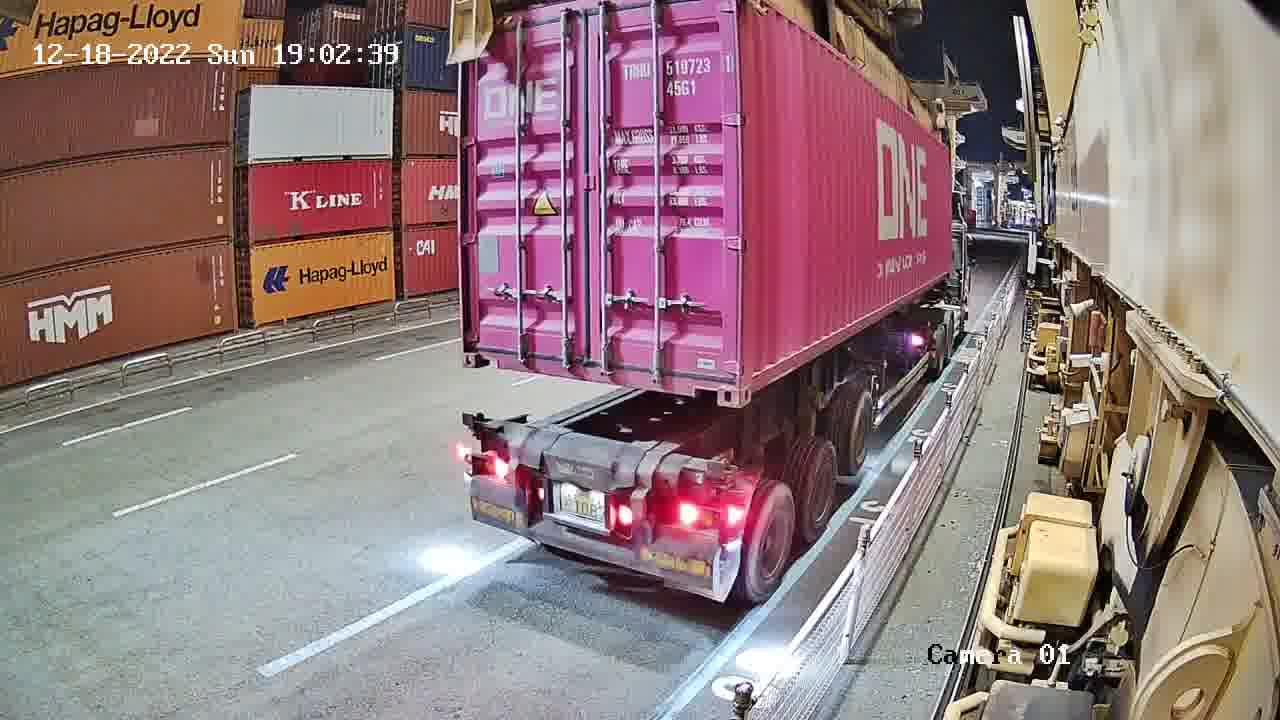Chassis: (466, 417, 727, 490)
Cone: (708, 457, 737, 492), (464, 411, 479, 438)
Hole_L: (741, 337, 775, 408), (462, 324, 503, 368)
Hole_R: (689, 349, 738, 406)
Tire: (747, 486, 796, 595), (802, 443, 840, 533), (842, 393, 873, 476)
